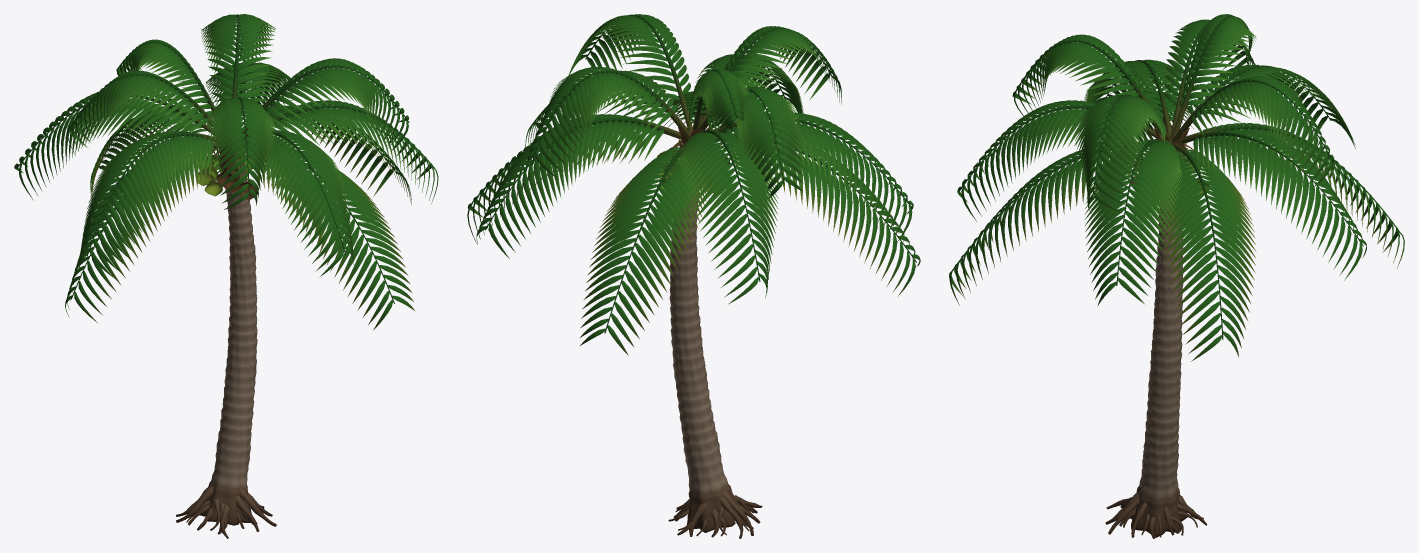
The model's file is palm_tree.glb.
3 renders of one model, left to right at view 1: azimuth 30°, elevation 25°; view 2: azimuth 150°, elevation 25°; view 3: azimuth 270°, elevation 25°, orthographic. The views are drawn at different scales.
Visible parts, largest first — view 1: PalmTrunk, PalmFrond_5, PalmFrond_6, PalmFrond_2, PalmFrond_11, PalmFrond_4, PalmFrond_10, PalmFrond_1, PalmFrond_7, PalmFrond_12, PalmFrond_9, PalmSpearLeaf (+5 smaller); view 2: PalmFrond_0, PalmTrunk, PalmFrond_4, PalmFrond_8, PalmFrond_12, PalmFrond_1, PalmFrond_5, PalmFrond_11, PalmFrond_9, PalmFrond_10, PalmSpearLeaf, PalmRoots (+3 smaller); view 3: PalmFrond_3, PalmTrunk, PalmFrond_7, PalmFrond_8, PalmFrond_11, PalmFrond_12, PalmFrond_6, PalmFrond_2, PalmFrond_10, PalmSpearLeaf, PalmFrond_0, PalmFrond_4 (+4 smaller).
Part boxes in pixels (bbox=[...]): PalmTrunk: bbox=[200, 156, 257, 525]; PalmFrond_5: bbox=[78, 131, 222, 278]; PalmFrond_6: bbox=[241, 130, 353, 277]; PalmFrond_2: bbox=[257, 149, 414, 330]; PalmFrond_11: bbox=[242, 58, 409, 149]; PalmFrond_4: bbox=[14, 90, 218, 200]; PalmFrond_10: bbox=[207, 97, 276, 209]; PalmFrond_1: bbox=[65, 142, 221, 322]; PalmFrond_7: bbox=[246, 100, 438, 204]; PalmFrond_12: bbox=[201, 14, 275, 100]; PalmFrond_9: bbox=[67, 70, 214, 155]; PalmSpearLeaf: bbox=[116, 39, 215, 119]; PalmFrond_0: bbox=[580, 142, 709, 355]; PalmTrunk: bbox=[669, 144, 739, 532]; PalmFrond_4: bbox=[678, 130, 778, 304]; PalmFrond_8: bbox=[476, 114, 688, 258]; PalmFrond_12: bbox=[527, 66, 691, 179]; PalmFrond_1: bbox=[711, 133, 920, 296]; PalmFrond_5: bbox=[710, 112, 913, 242]; PalmFrond_11: bbox=[568, 14, 692, 132]; PalmFrond_9: bbox=[698, 86, 803, 198]; PalmFrond_10: bbox=[698, 26, 841, 128]; PalmSpearLeaf: bbox=[688, 68, 749, 132]; PalmRoots: bbox=[668, 490, 762, 538]; PalmFrond_3: bbox=[1157, 143, 1256, 361]; PalmTrunk: bbox=[1130, 199, 1187, 537]; PalmFrond_7: bbox=[1084, 139, 1182, 305]; PalmFrond_8: bbox=[1173, 130, 1366, 280]; PalmFrond_11: bbox=[1074, 94, 1172, 216]; PalmFrond_12: bbox=[1172, 76, 1334, 186]; PalmFrond_6: bbox=[957, 100, 1163, 221]; PalmFrond_2: bbox=[949, 141, 1153, 305]; PalmFrond_10: bbox=[1012, 34, 1170, 137]; PalmSpearLeaf: bbox=[1171, 14, 1256, 139]; PalmFrond_0: bbox=[1186, 122, 1404, 268]; PalmFrond_4: bbox=[1180, 64, 1355, 148].
Bounding box in the file's own units: 6.66 × 7.74 × 6.55.
